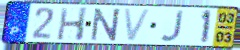1: (198, 9, 213, 45)
2: (30, 6, 55, 41)
H: (55, 6, 90, 42)
J: (159, 9, 186, 43)
N: (89, 7, 122, 42)
V: (122, 8, 153, 43)
